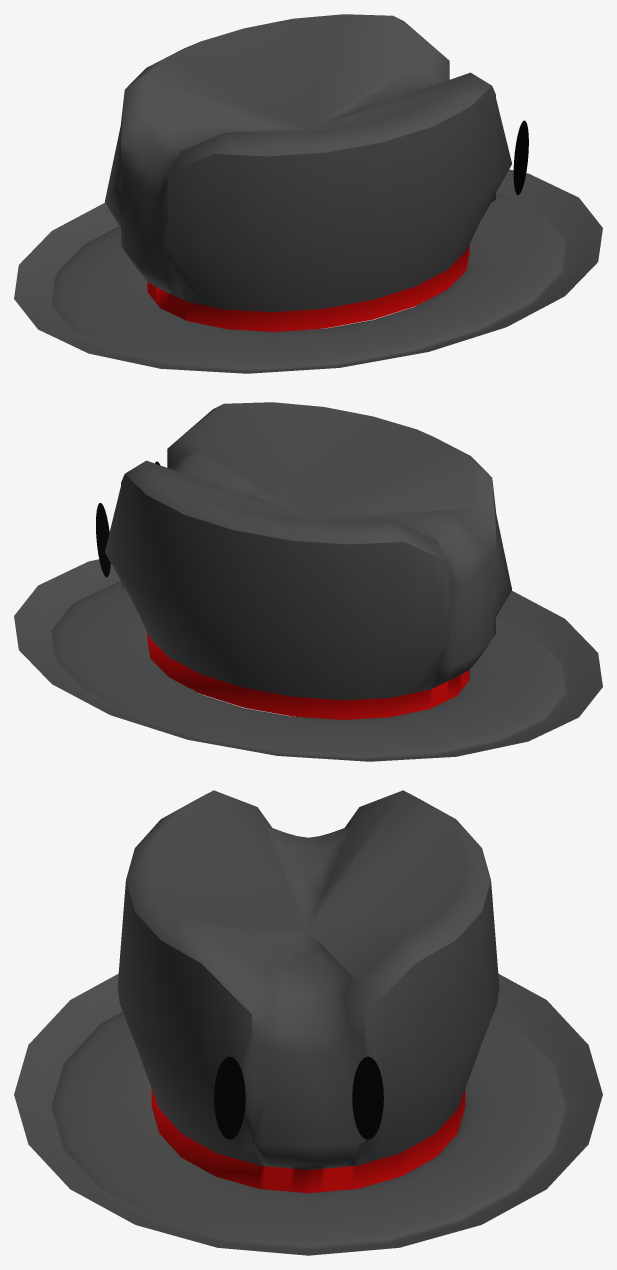
Rendered from Hat_Model.fbx.
3 views of the same model, one above another, from view 1: azimuth 30°, elevation 25°; view 2: azimuth 150°, elevation 25°; view 3: azimuth 270°, elevation 25° (orthographic). The views are drawn at different scales.
Visible parts, largest first — view 1: Hat; view 2: Hat; view 3: Hat.
Boxes of the visible parts, x1,y1,x2,y2 form: Hat: [14, 14, 602, 373]; Hat: [14, 402, 602, 761]; Hat: [14, 790, 602, 1255].
Bounding box in the file's own units: 6.26 × 2.28 × 4.84.
